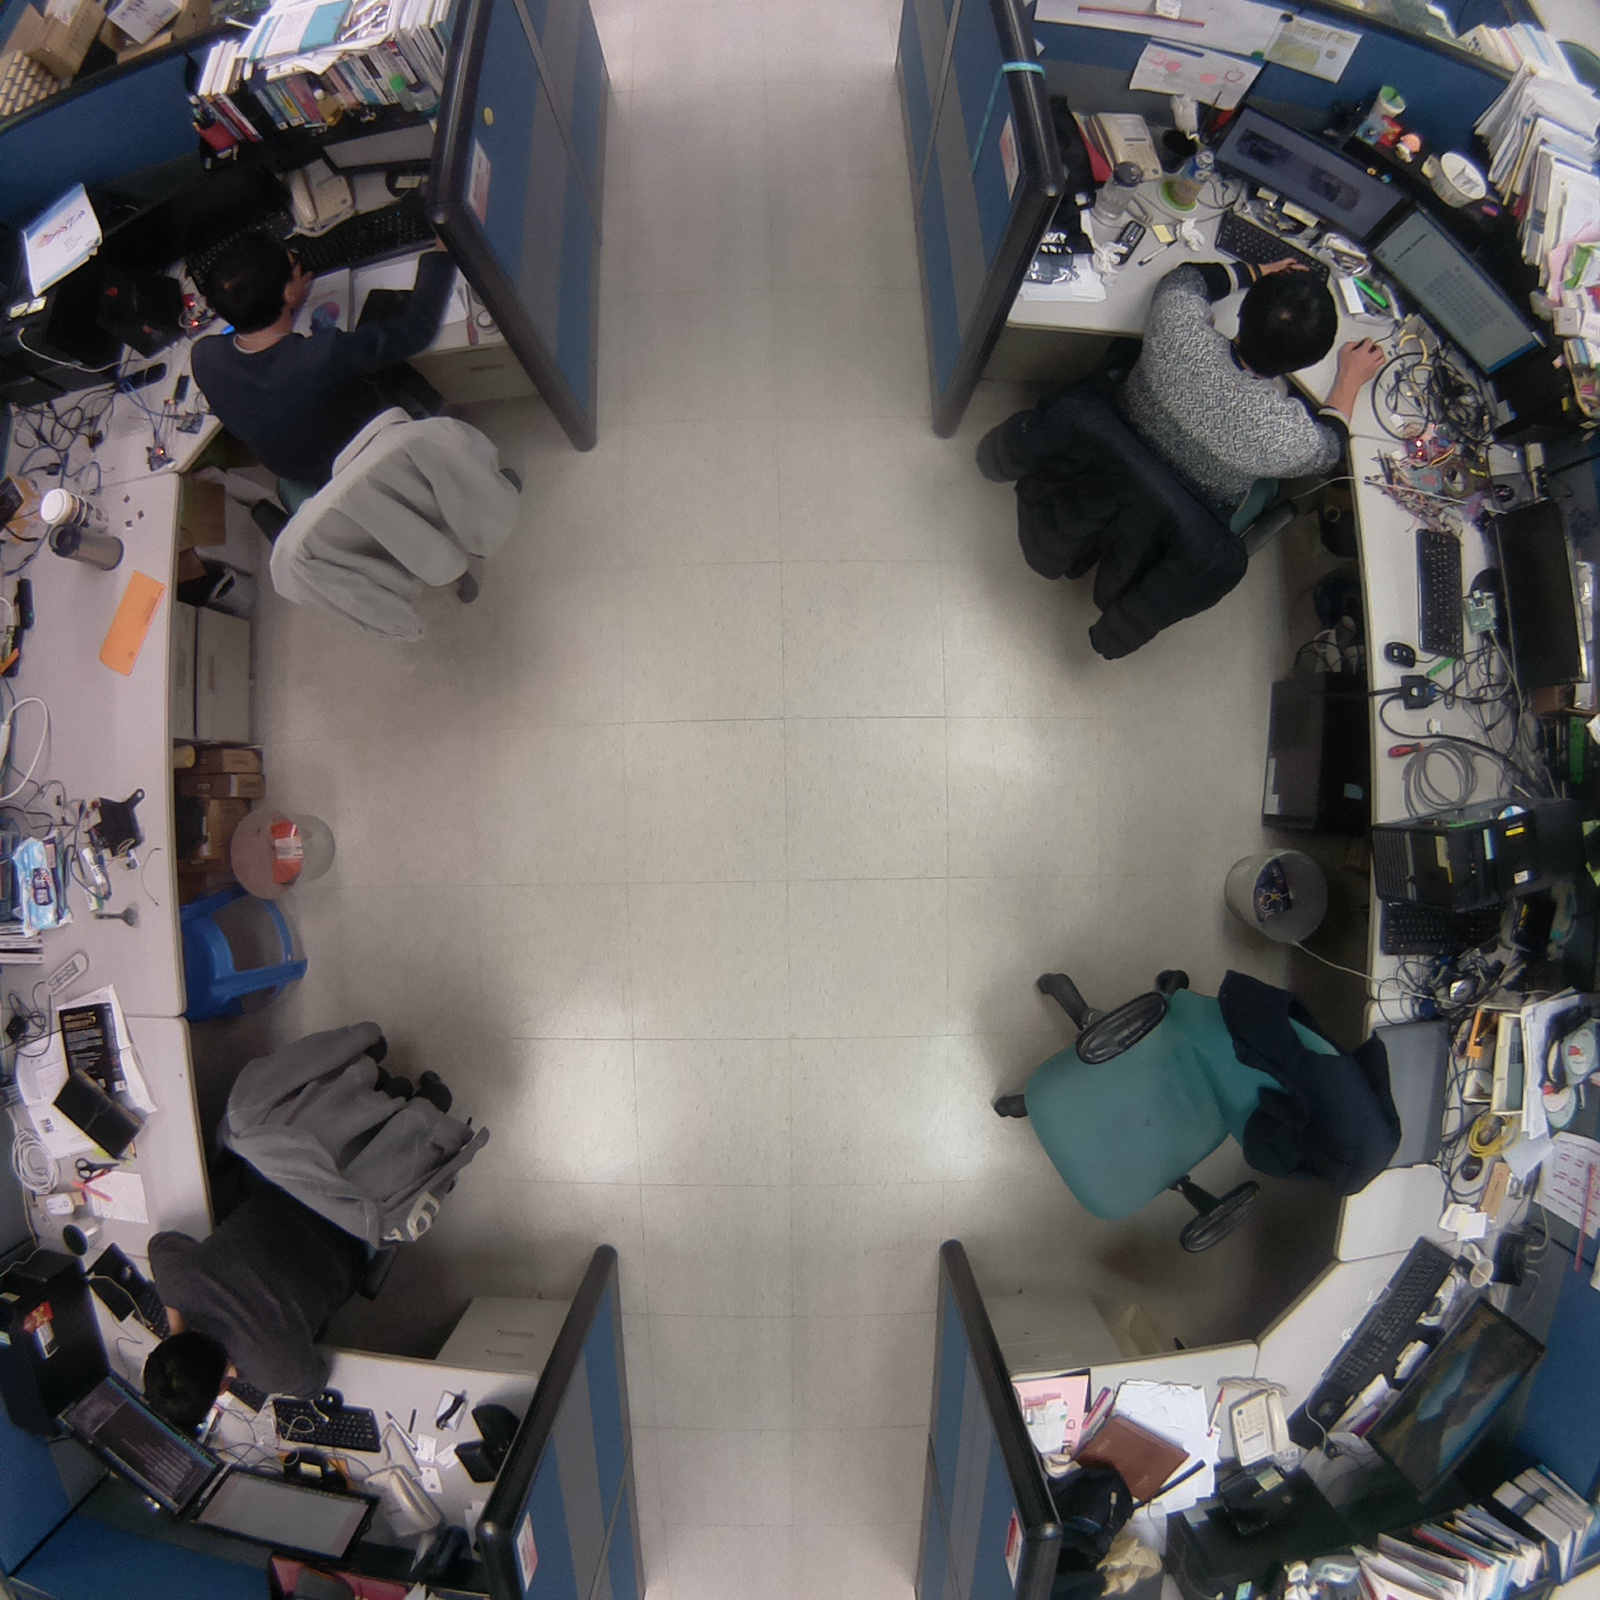chair: (976, 936, 1414, 1281)
sitting: (954, 229, 1423, 689), (157, 185, 544, 680), (119, 1001, 519, 1470)
